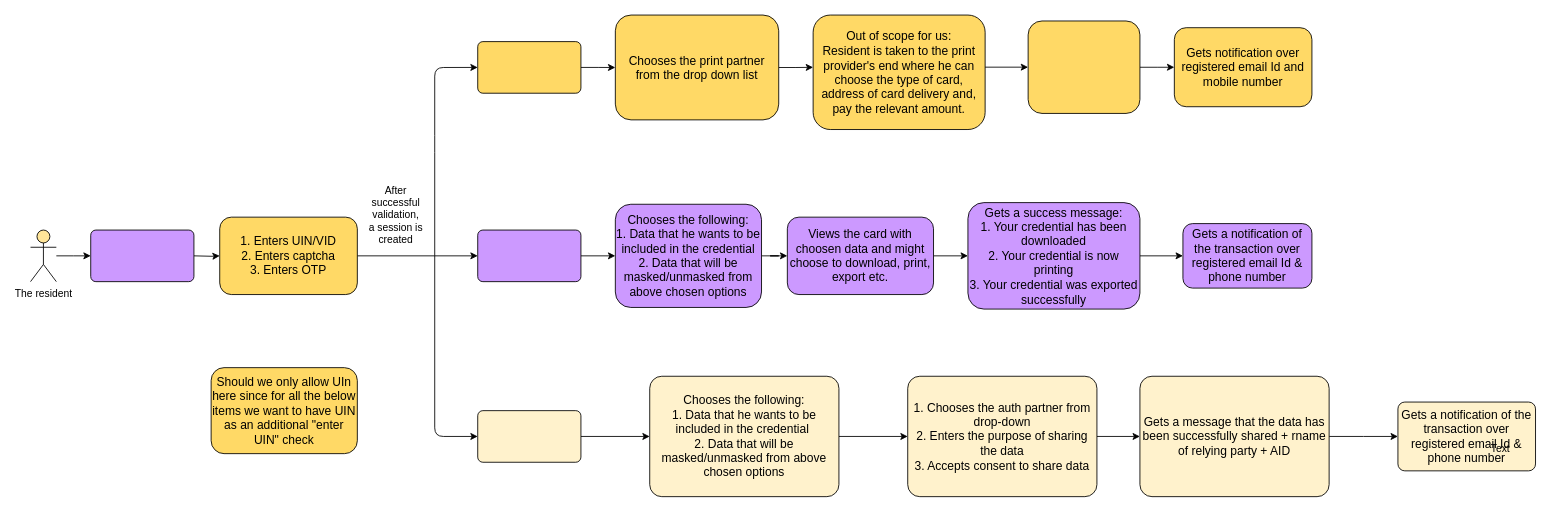
Some shapes in this 1551 by 512 pixel diagram are drawn without their labels. The box of each missing label's shape, as (x1, y1, x2, y2) in pixels:
Gets a confirmation message as "order placed successfully" + Application ID: (1027, 20, 1140, 113)
Navigates to " credential services ": (90, 229, 194, 282)
Navigates to " Download card": (477, 229, 581, 282)
Navigates to " Order a card ": (477, 41, 581, 93)
Navigates to " share with a partner ": (477, 410, 581, 462)
